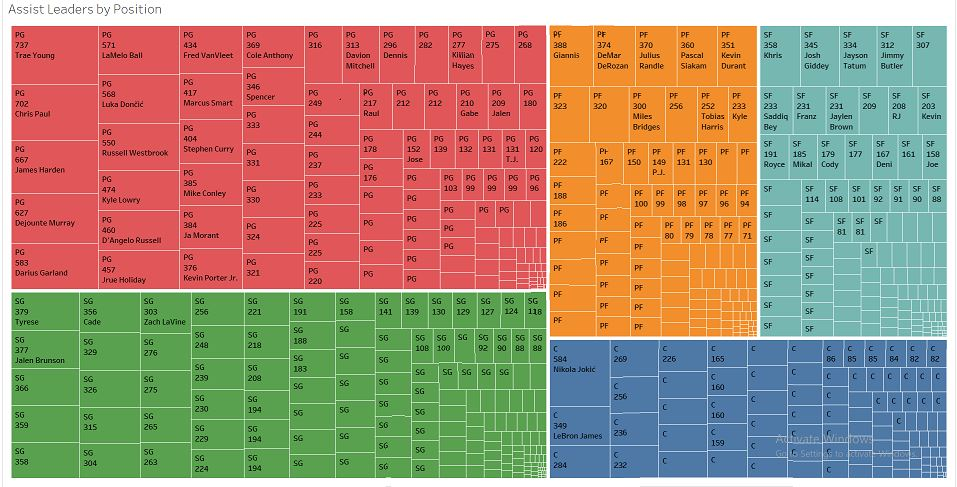

Layout of this report page (visuals, bound fields, positions):
{"tool":"tableau","page":{"name":"Picture","canvas":[1300,900],"ordinal":0},"visuals":[{"type":"image","param":"Image/perfect.JPG","box":[70,59,951,720]}]}

Visuals, with their boxes on the page's 1300x900 design canvas (x1, y1, x2, y2). These are canvas units, not pixel positions in the 957x487 screenshot, which may show the page scaled, cropped or inside an application window:
image: left=70, top=59, right=1021, bottom=779
